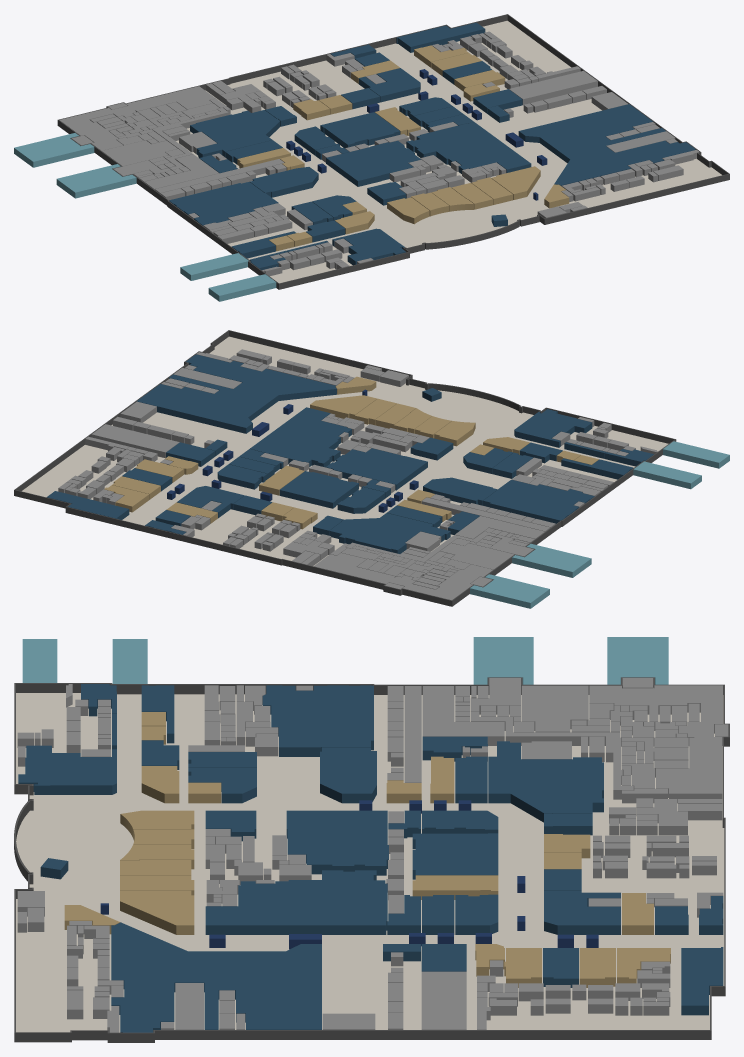
The model's file is first_floor.gltf.
3 renders of one model, top to bottom at view 1: azimuth 30°, elevation 25°; view 2: azimuth 150°, elevation 25°; view 3: azimuth 270°, elevation 25°, orthographic. The views are drawn at different scales.
Visible parts, largest first — view 1: ff_ground, ff_frame, ff_g-35-36-37.001, ff_tr_b.043, ff_g-10.001, ff_tr_g.002, ff_tr_g.001, ff_tr_d.031, ff_g-17.001, ff_g-27.001, ff_tr_b.039, ff_tr_g.003 (+50 smaller); view 2: ff_ground, ff_frame, ff_g-35-36-37.001, ff_g-10.001, ff_tr_b.043, ff_tr_g.002, ff_tr_g.001, ff_tr_d.031, ff_g-17.001, ff_tr_b.039, ff_tr_g.003, ff_tr_g.004 (+54 smaller); view 3: ff_ground, ff_g-35-36-37.001, ff_frame, ff_tr_b.043, ff_g-10.001, ff_g-17.001, ff_tr_b.039, ff_tr_g.002, ff_tr_d.031, ff_g-40.001, ff_tr_g.001, ff_tr_g (+69 smaller).
Part boxes in pixels (x1,y1,x2,y2): ff_ground: (176, 20, 721, 283); ff_frame: (57, 14, 729, 289); ff_g-35-36-37.001: (518, 104, 695, 186); ff_tr_b.043: (59, 86, 215, 150); ff_g-10.001: (169, 182, 278, 225); ff_tr_g.002: (14, 133, 94, 167); ff_tr_g.001: (56, 164, 136, 198); ff_tr_d.031: (509, 70, 597, 105); ff_g-17.001: (196, 121, 280, 157); ff_g-27.001: (396, 22, 485, 52); ff_tr_b.039: (102, 140, 177, 166); ff_tr_g.003: (180, 253, 248, 280); ff_ground: (22, 336, 668, 566); ff_frame: (14, 330, 676, 606); ff_g-35-36-37.001: (136, 354, 336, 433); ff_g-10.001: (483, 479, 594, 523); ff_tr_b.043: (313, 553, 492, 600); ff_tr_g.002: (470, 574, 549, 608); ff_tr_g.001: (512, 543, 591, 577); ff_tr_d.031: (91, 424, 179, 458); ff_g-17.001: (345, 513, 450, 541); ff_tr_b.039: (440, 543, 513, 569); ff_tr_g.003: (633, 461, 701, 489); ff_tr_g.004: (663, 441, 729, 468); ff_ground: (16, 693, 724, 1032); ff_g-35-36-37.001: (111, 922, 321, 1032); ff_frame: (14, 677, 729, 1042); ff_tr_b.043: (589, 685, 722, 803); ff_g-10.001: (262, 685, 373, 756); ff_g-17.001: (488, 741, 543, 822); ff_tr_b.039: (521, 685, 588, 732); ff_tr_g.002: (607, 637, 668, 684); ff_tr_d.031: (421, 971, 466, 1029); ff_g-40.001: (120, 890, 194, 934); ff_tr_g.001: (473, 637, 533, 684); ff_tr_g: (422, 686, 504, 745).
Bounding box in the file's own units: 3.58 × 0.04 × 2.73.
